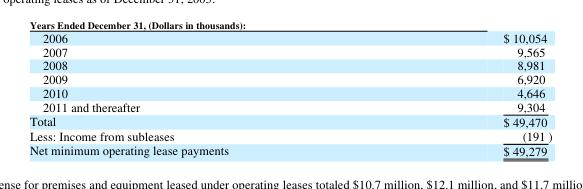table: (28, 28, 551, 158)
table column: (28, 28, 365, 158), (365, 28, 551, 158)
table row: (28, 28, 551, 44), (28, 142, 551, 158), (28, 127, 551, 142), (28, 57, 551, 71), (28, 71, 551, 85), (28, 85, 551, 99), (28, 99, 551, 113), (28, 113, 551, 127), (28, 44, 551, 57)
